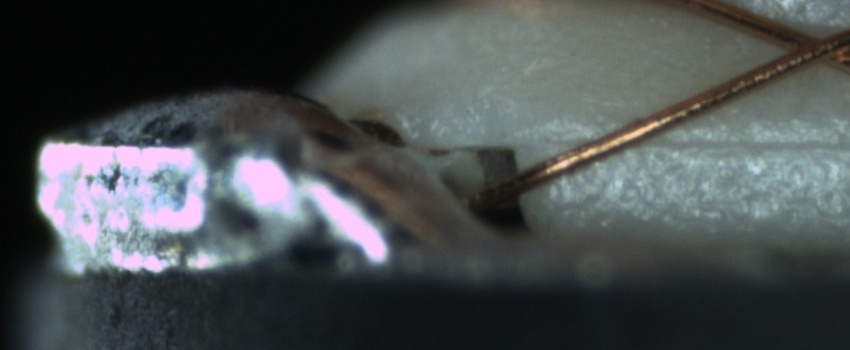CL: (766, 18, 846, 73)
DL: (555, 112, 848, 171)
